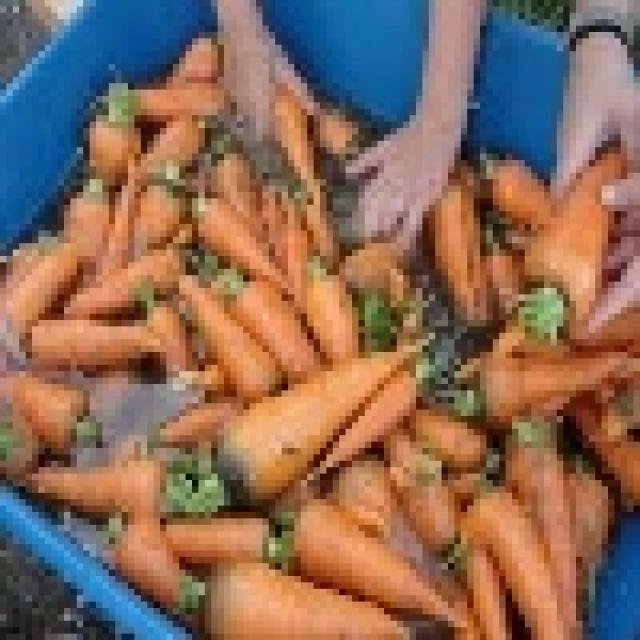Stale_Carrot: (201, 348, 415, 499), (64, 201, 121, 282)
